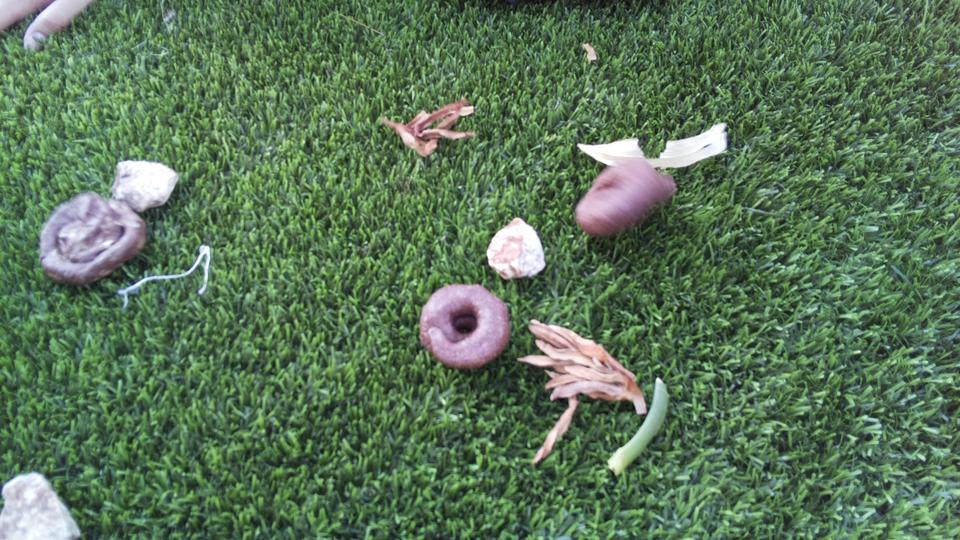poop: (30, 187, 155, 291), (566, 151, 677, 247), (415, 278, 512, 376)
